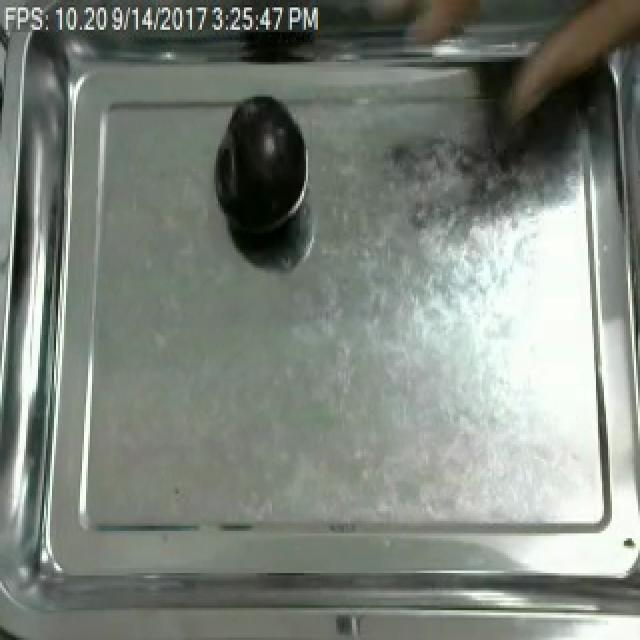Fruit: (208, 92, 312, 248)
